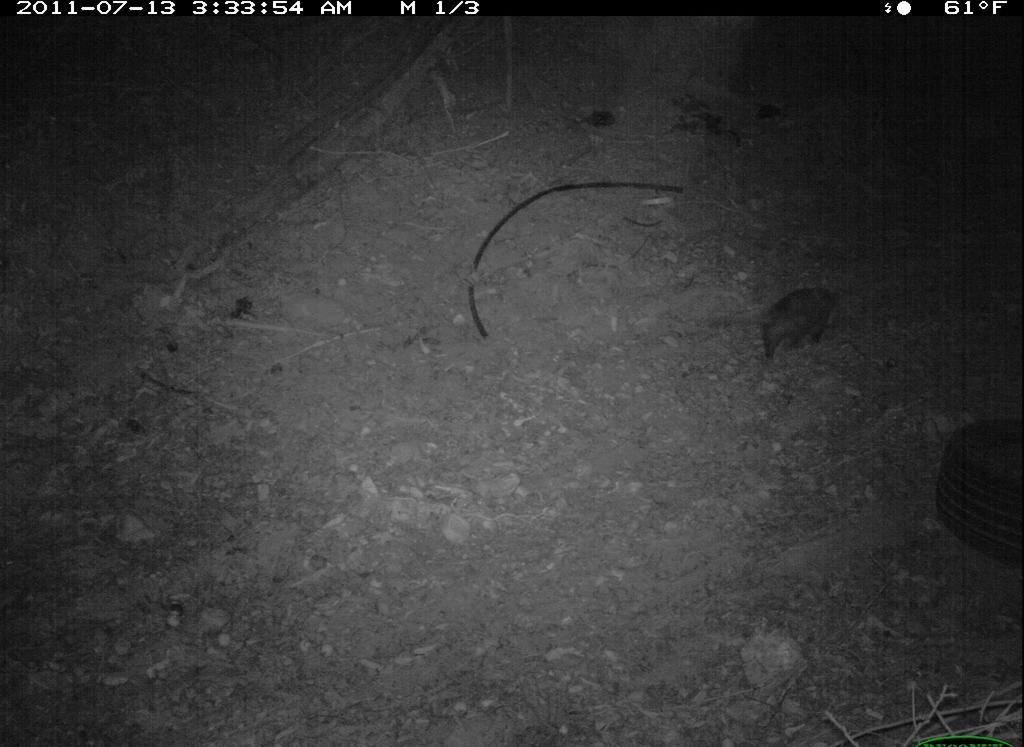opossum: (752, 277, 877, 376)
